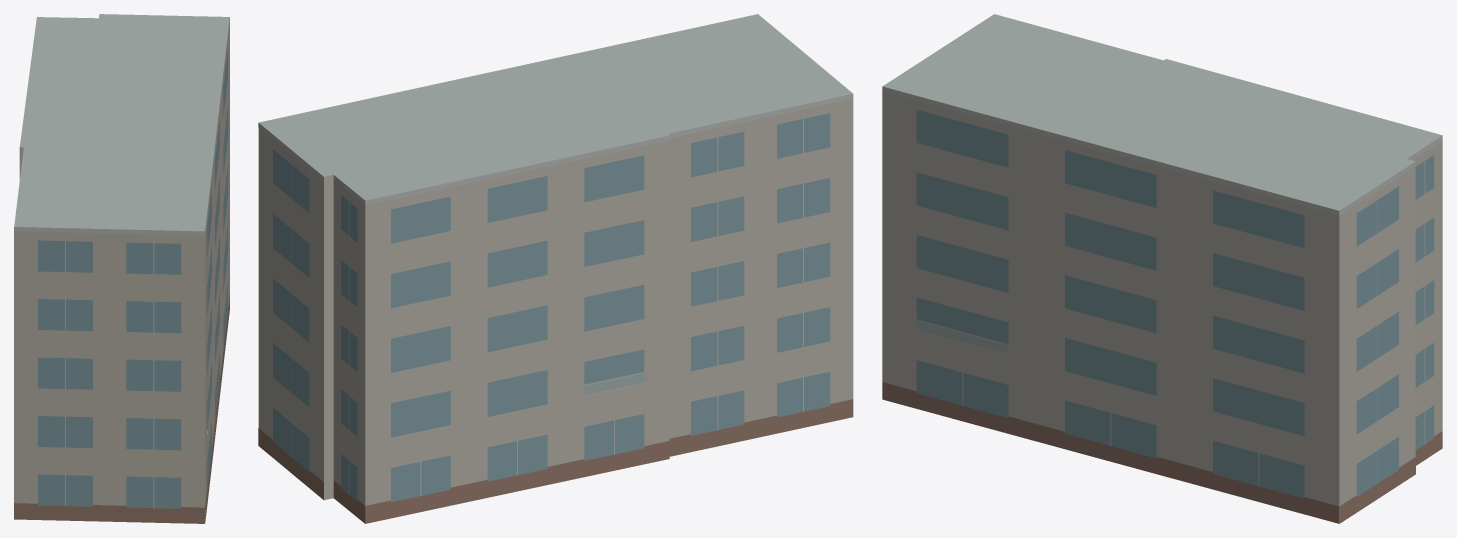
File: survey-upis-32675285.glb
3 views of the same model, side by side, from view 1: azimuth 30°, elevation 25°; view 2: azimuth 150°, elevation 25°; view 3: azimuth 270°, elevation 25° (orthographic). The views are drawn at different scales.
Visible parts, largest first — view 1: survey-upis-32675285.tmp; view 2: survey-upis-32675285.tmp; view 3: survey-upis-32675285.tmp.
Part boxes in pixels (box(x1,y1,x2,y2)): survey-upis-32675285.tmp: box(14, 14, 229, 523); survey-upis-32675285.tmp: box(258, 14, 853, 523); survey-upis-32675285.tmp: box(882, 14, 1442, 523).
Bounding box in the file's own units: 21.32 × 15.8 × 25.64.
